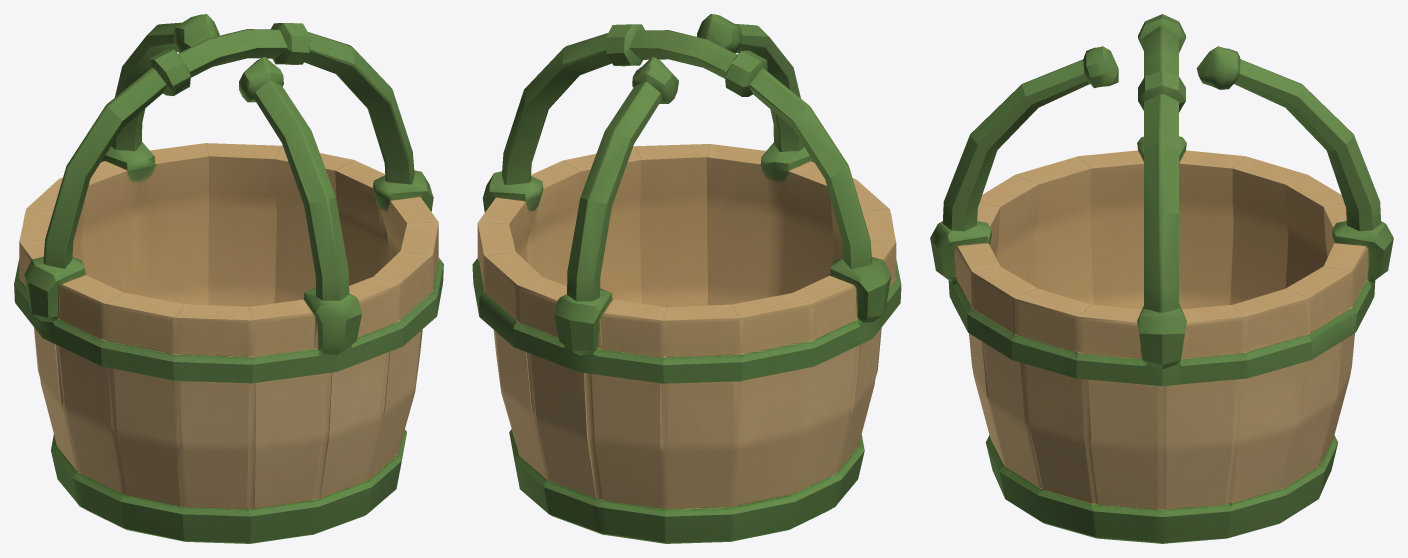
File: base_basic_pbr.fbx
The picture shows the model from 3 angles, left to right: view 1: azimuth 30°, elevation 25°; view 2: azimuth 150°, elevation 25°; view 3: azimuth 270°, elevation 25°; orthographic projection.
Visible parts, largest first — view 1: model; view 2: model; view 3: model.
Part boxes in pixels (x1,y1,x2,y2): model: (14,14,443,543); model: (472,14,901,543); model: (930,14,1393,543).
Size of the model in its own units: 179 by 187 by 182.
1 material, 1 textured.
